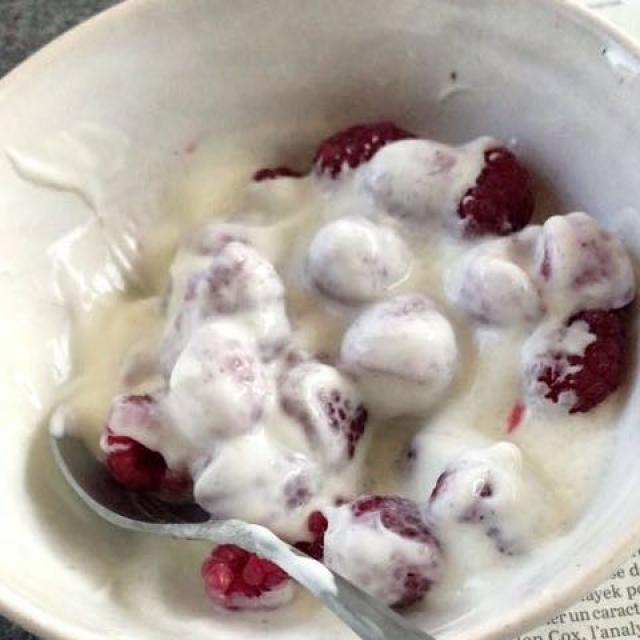raspberries: (79, 130, 617, 634)
